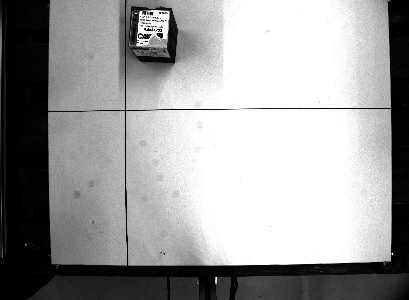b4: (126, 2, 181, 65)
